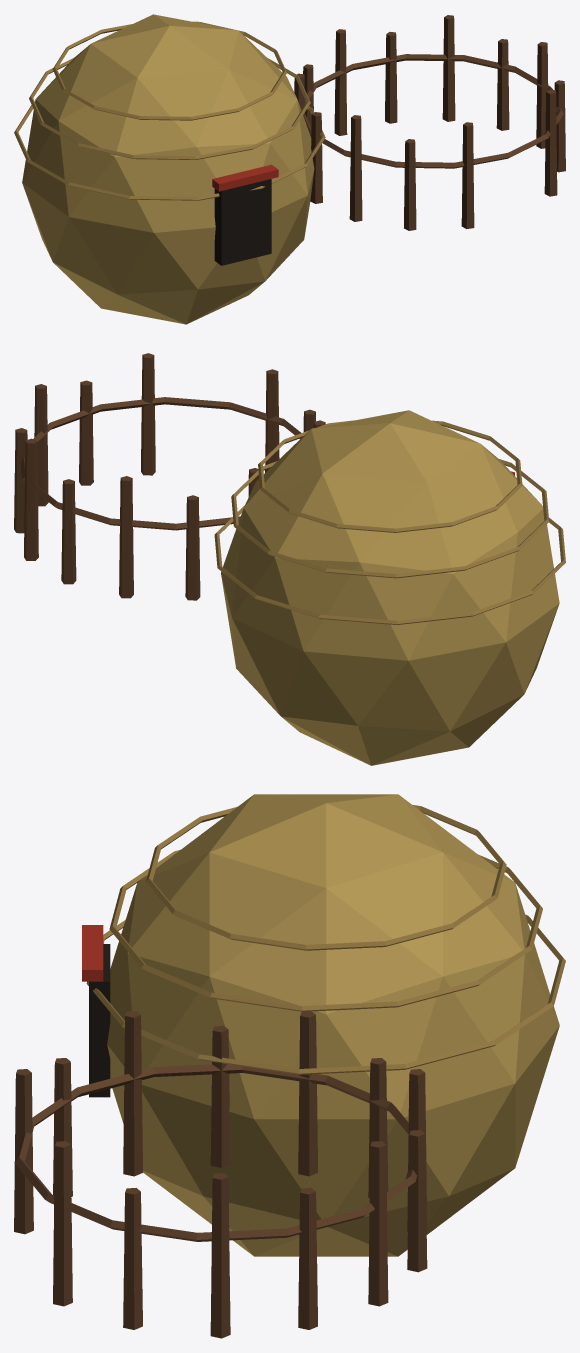
Rendered from elephant_house_b.glb.
3 views of the same model, one above another, from view 1: azimuth 30°, elevation 25°; view 2: azimuth 150°, elevation 25°; view 3: azimuth 270°, elevation 25° (orthographic). The views are drawn at different scales.
Visible parts, largest first — view 1: elephant_house_b; view 2: elephant_house_b; view 3: elephant_house_b.
Boxes of the visible parts, x1,y1,x2,y2 form: elephant_house_b: [14, 14, 565, 324]; elephant_house_b: [14, 353, 565, 765]; elephant_house_b: [14, 794, 565, 1338].
Bounding box in the file's own units: 4.03 × 2.31 × 2.6.
